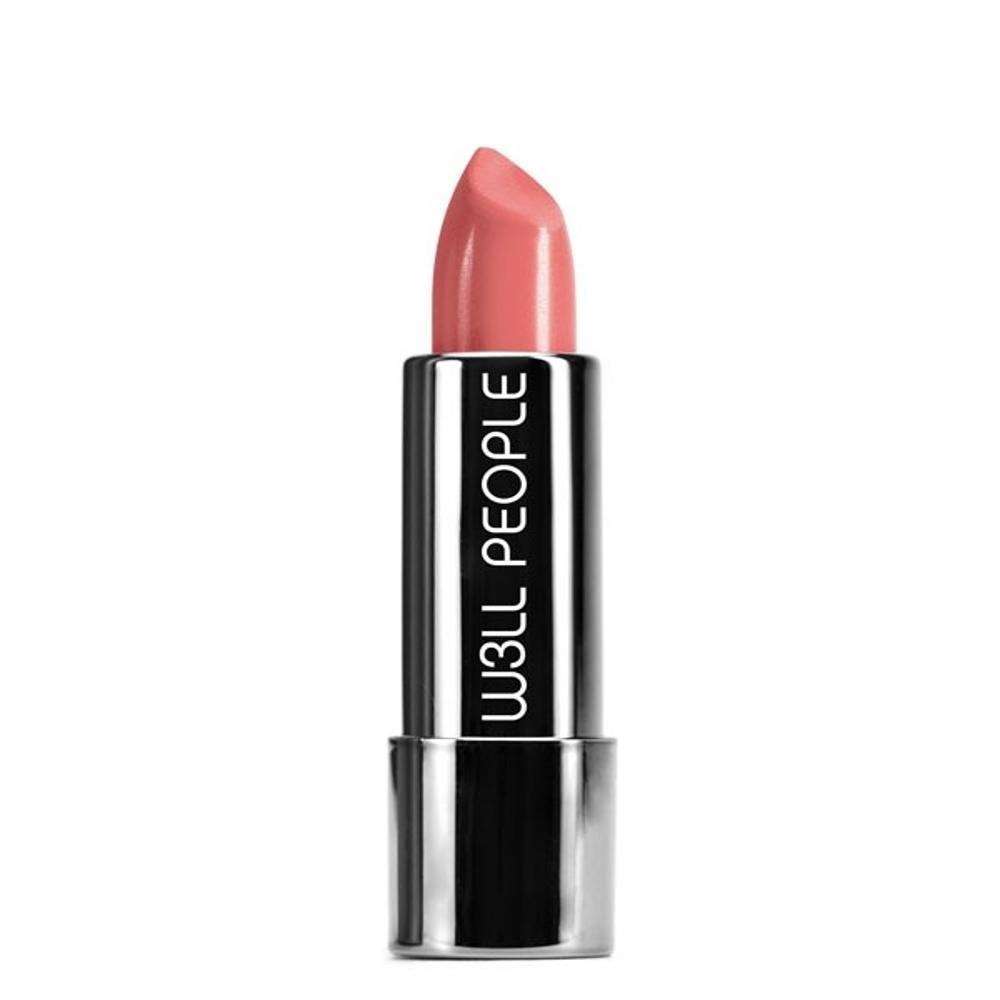lipstick: (344, 141, 632, 973)
